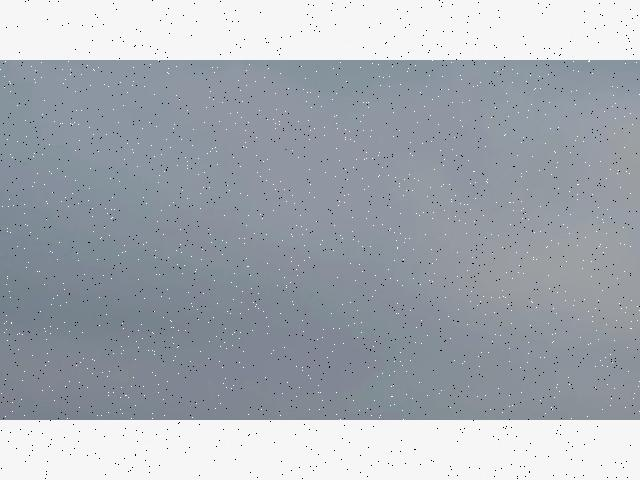Anti-Drone: (284, 148, 292, 151)
